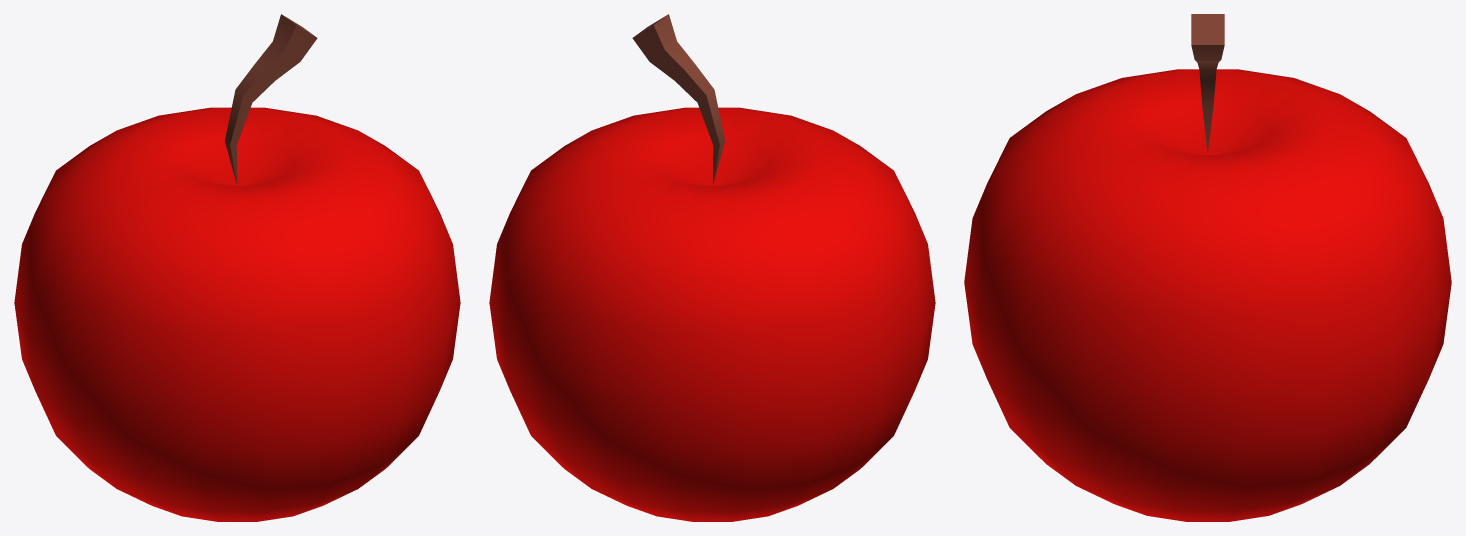
Rendered from Apple.fbx.
3 views of the same model, side by side, from view 1: azimuth 30°, elevation 25°; view 2: azimuth 150°, elevation 25°; view 3: azimuth 270°, elevation 25° (orthographic). The views are drawn at different scales.
Parts seen in each view (by area): view 1: Sphere; view 2: Sphere; view 3: Sphere.
Boxes of the visible parts, x1,y1,x2,y2 form: Sphere: (14, 14, 460, 521); Sphere: (489, 14, 935, 521); Sphere: (964, 14, 1451, 521).
Size of the model in its own units: 9.85 by 10.98 by 10.
